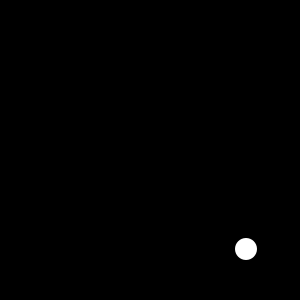rectangle: (235, 238, 257, 260)
